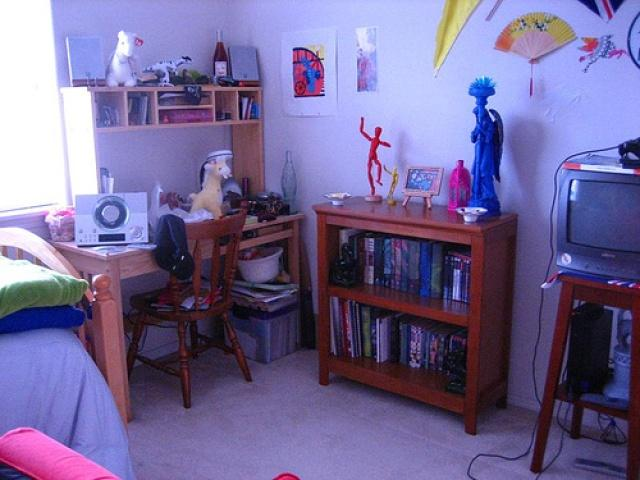Kursi: (125, 208, 252, 408)
Lemari: (310, 194, 518, 435)
